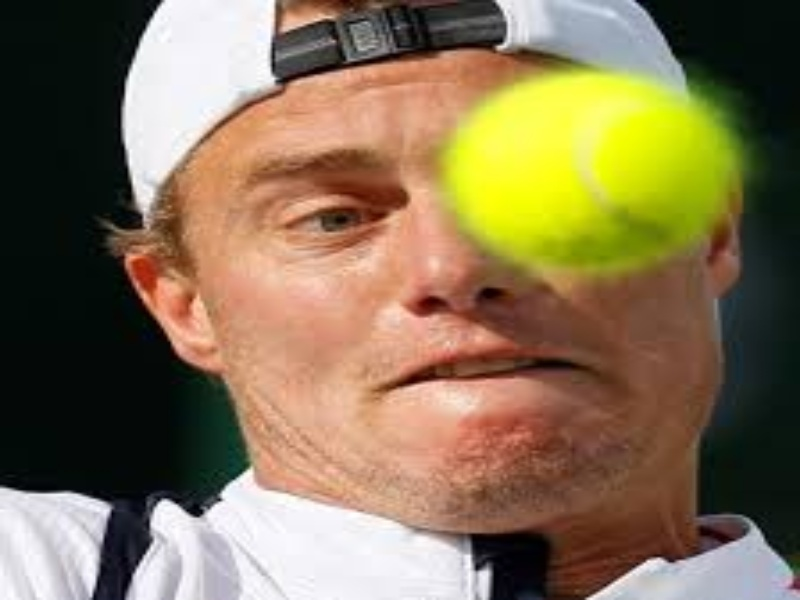tennis ball: (454, 75, 732, 266)
